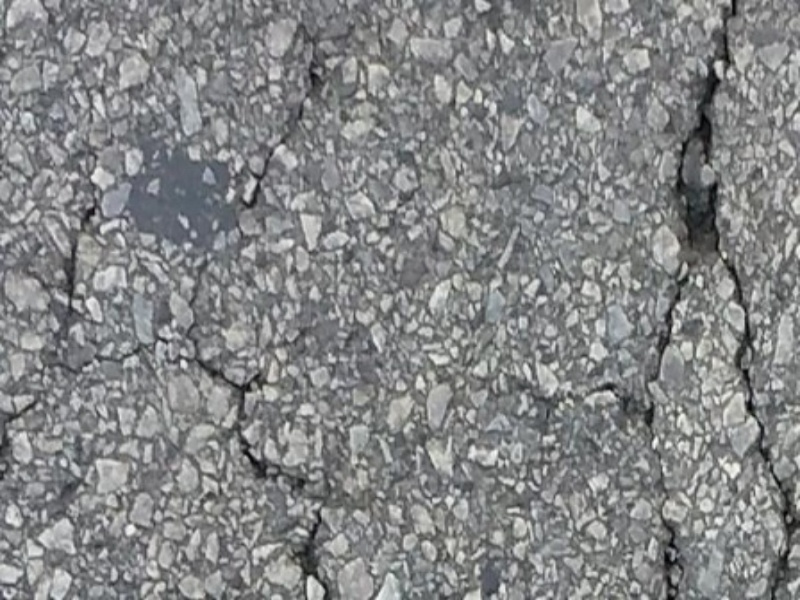crack: (61, 334, 344, 591), (677, 10, 794, 585), (608, 256, 694, 600), (221, 41, 336, 218), (31, 189, 110, 333)
